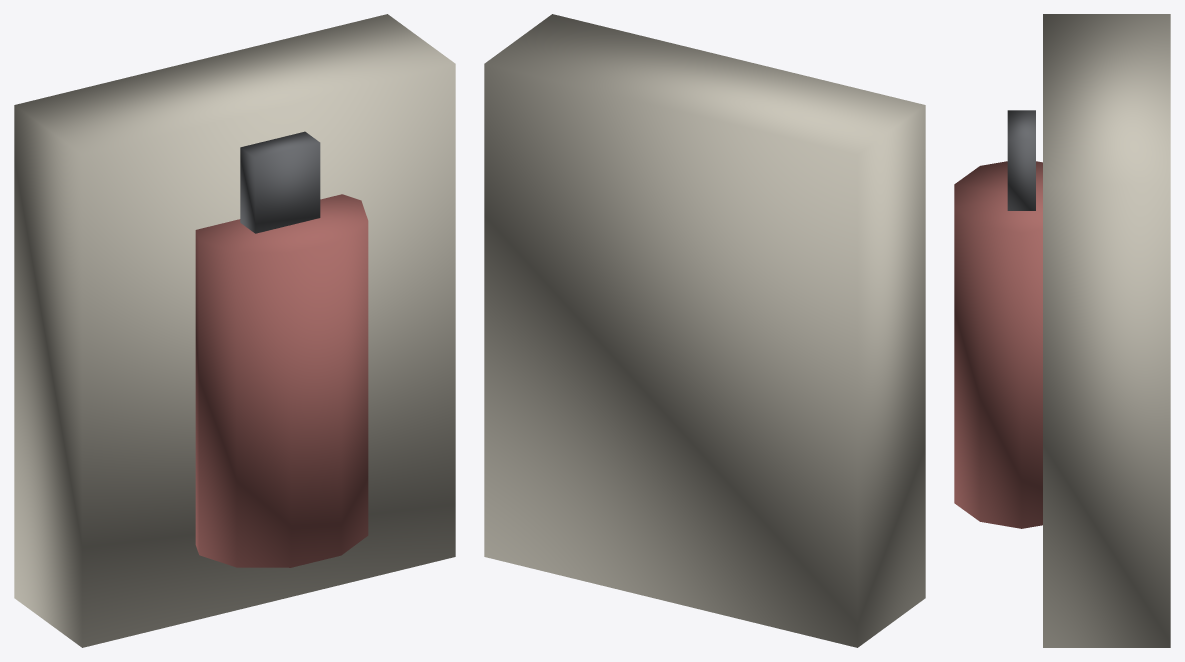
File: extinguisher_cabinet__wide.glb
3 renders of one model, left to right at view 1: azimuth 30°, elevation 25°; view 2: azimuth 150°, elevation 25°; view 3: azimuth 270°, elevation 25°, orthographic. The views are drawn at different scales.
Visible parts, largest first — view 1: world; view 2: world; view 3: world.
Part boxes in pixels (bbox=[...]): world: bbox=[14, 14, 455, 647]; world: bbox=[484, 14, 925, 647]; world: bbox=[954, 14, 1170, 647].
Bounding box in the file's own units: 0.5704 × 0.72 × 0.3051.
